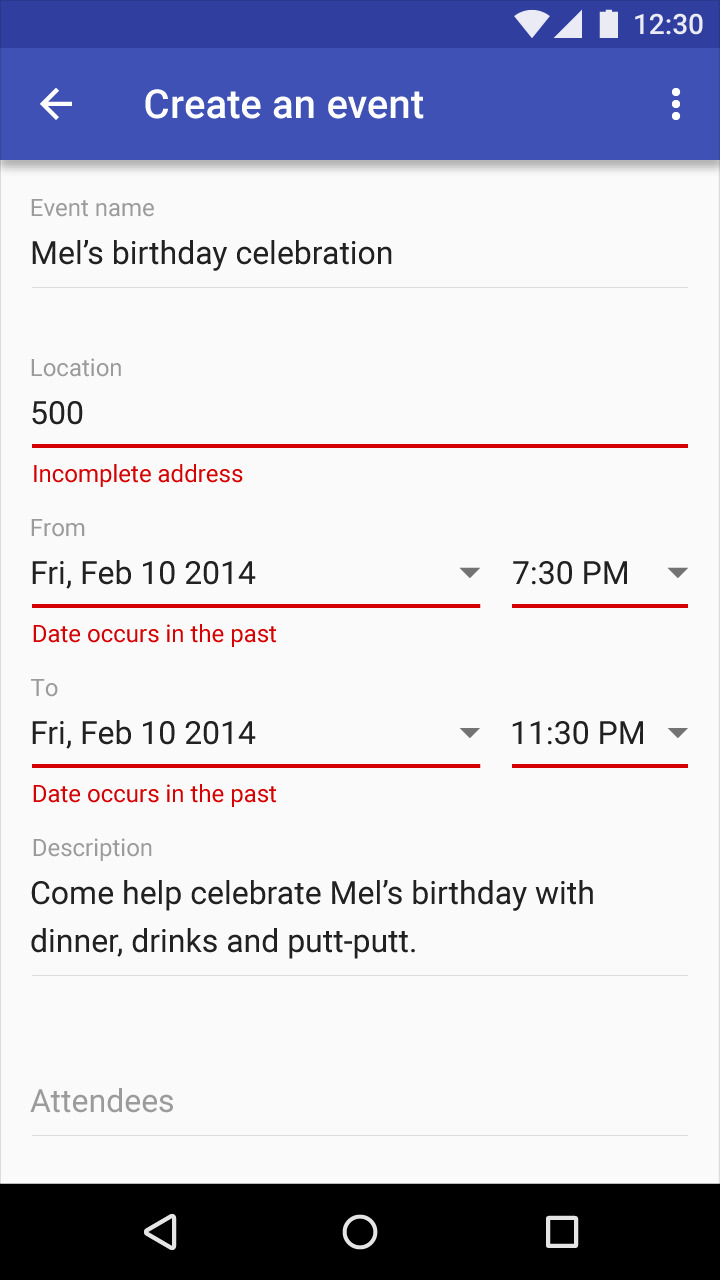error_field: (26, 397, 687, 452), (26, 551, 480, 610), (29, 716, 477, 769), (507, 555, 693, 614), (508, 713, 693, 772)
error_message: (32, 622, 284, 648), (29, 779, 277, 804), (29, 460, 243, 486)
